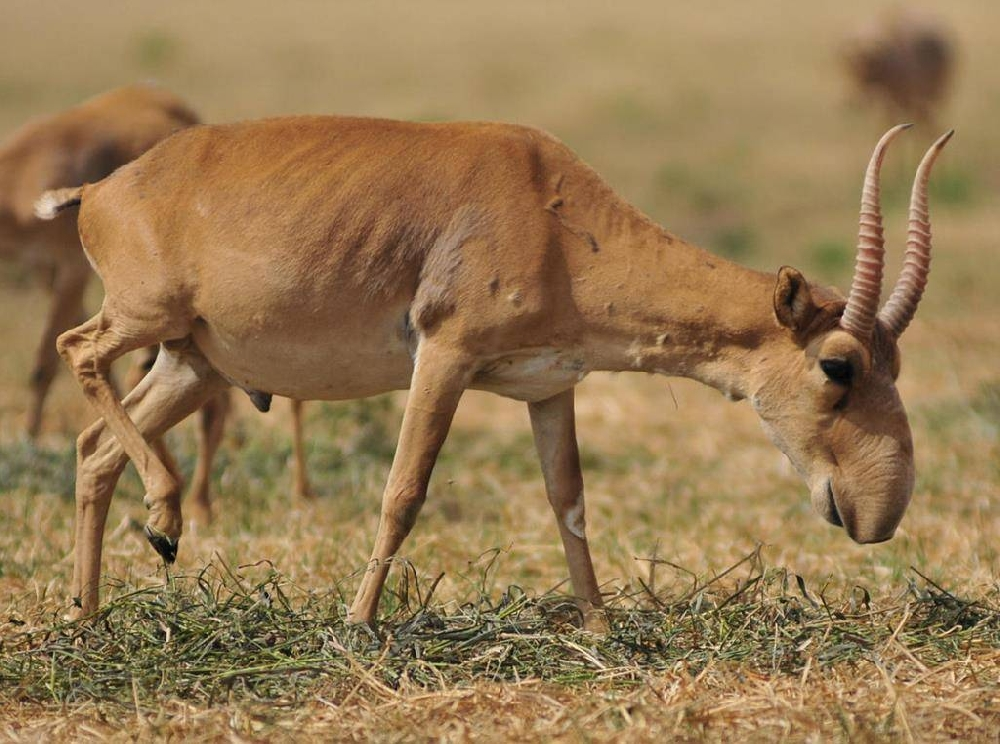saiga: (34, 110, 954, 658)
